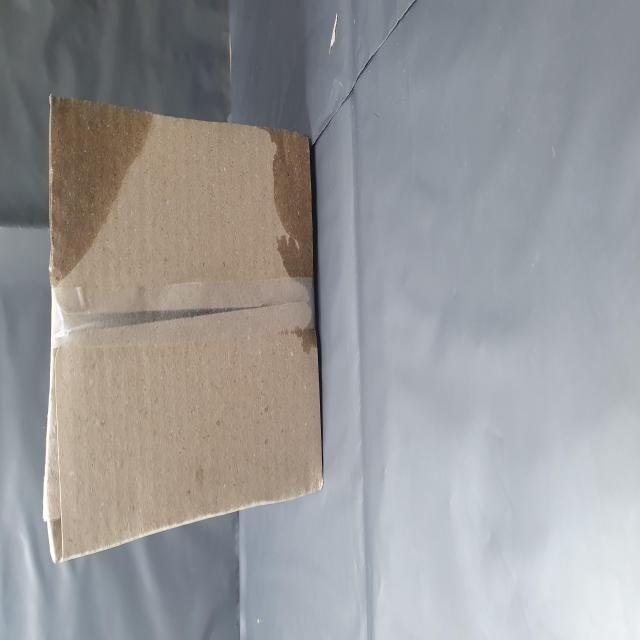wet: (188, 73, 305, 277), (178, 463, 298, 567)
